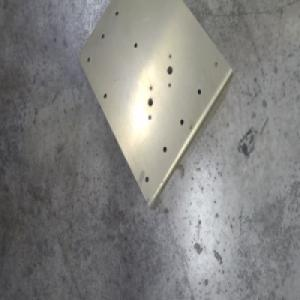MetalSheet: (77, 0, 236, 211)
